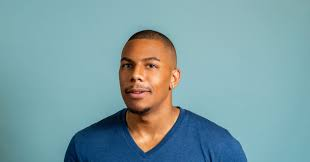no-mask: (117, 25, 182, 117)
